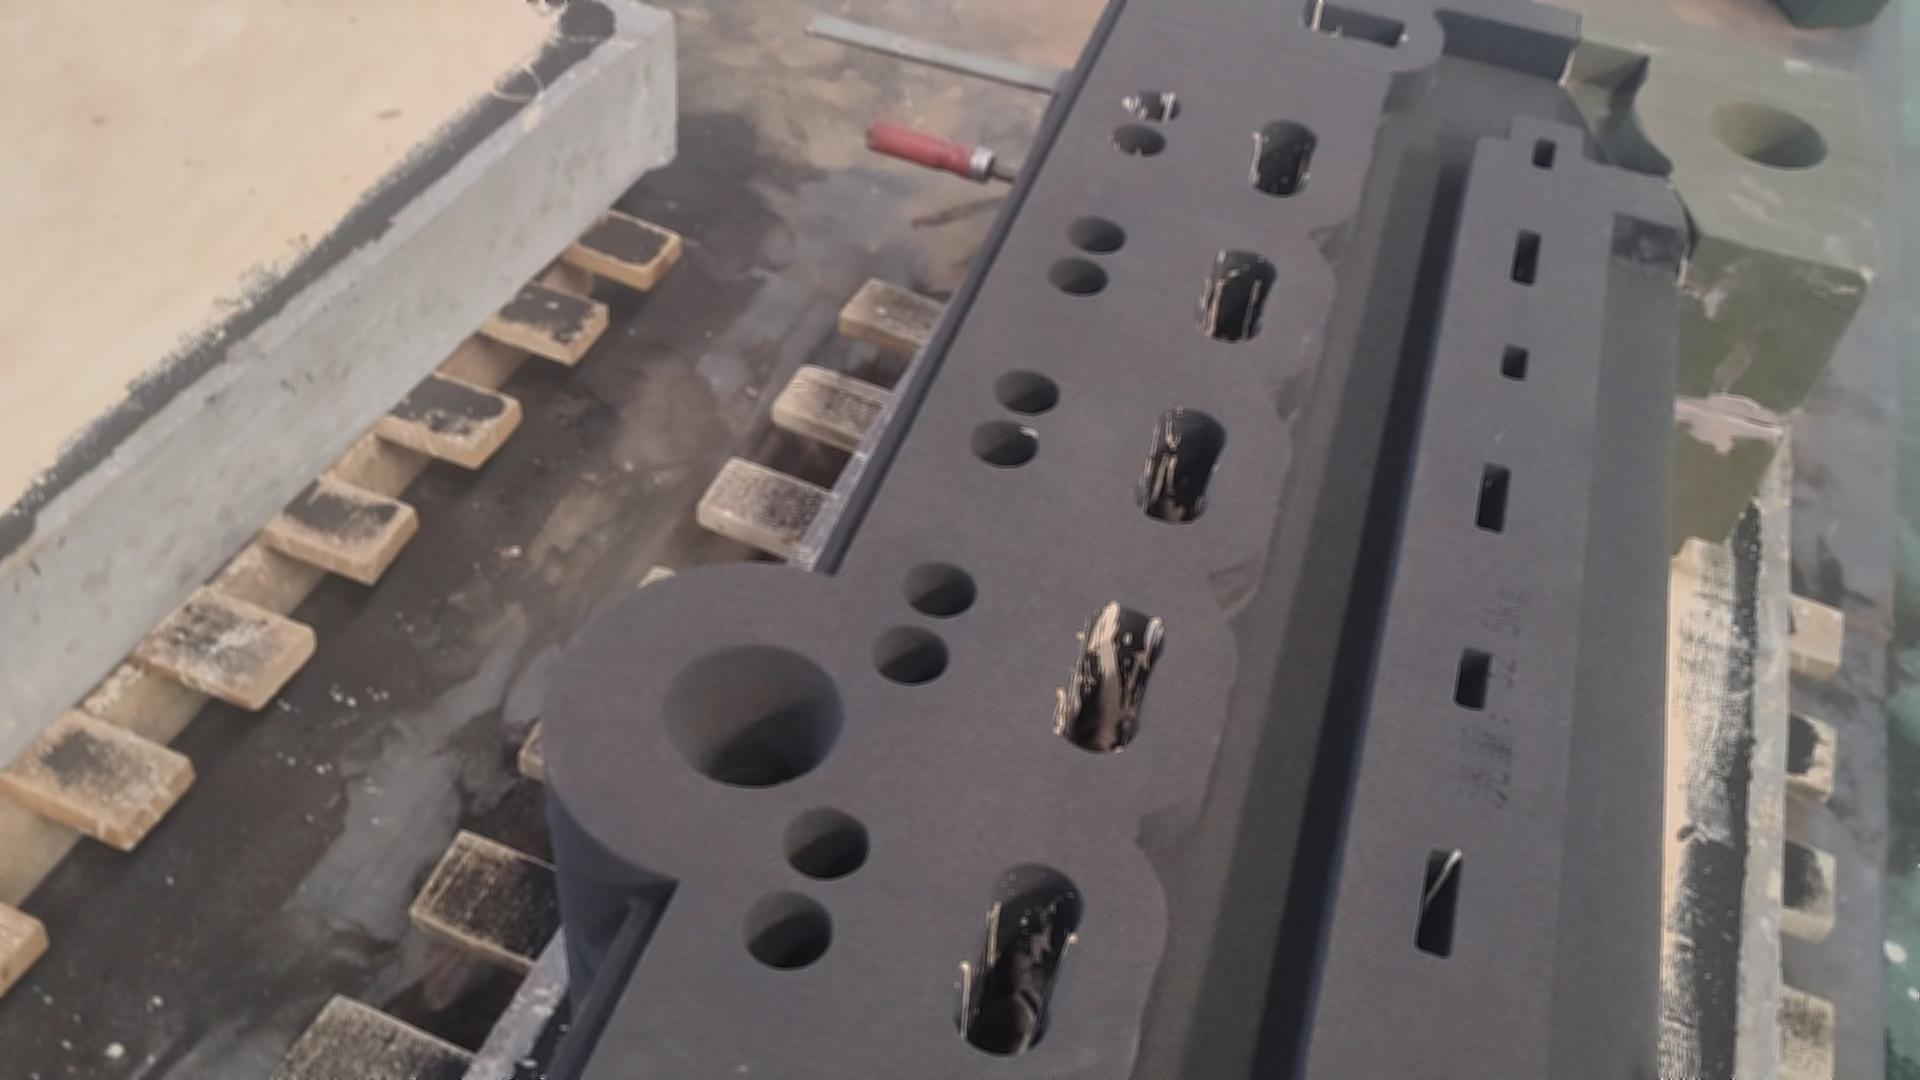pouring hole: (662, 647, 845, 786), (1705, 102, 1828, 170)
